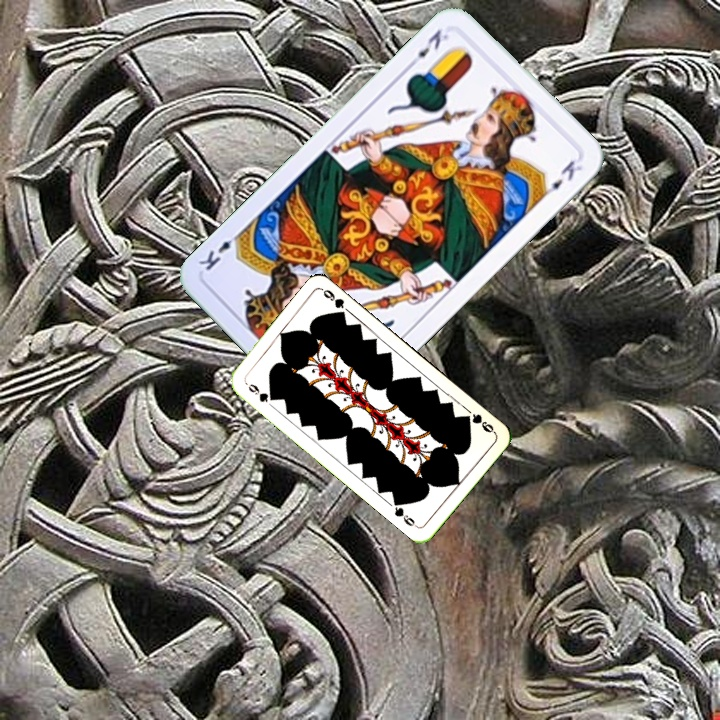EK: (404, 25, 452, 70)
G9: (460, 409, 498, 436), (244, 380, 277, 405)
